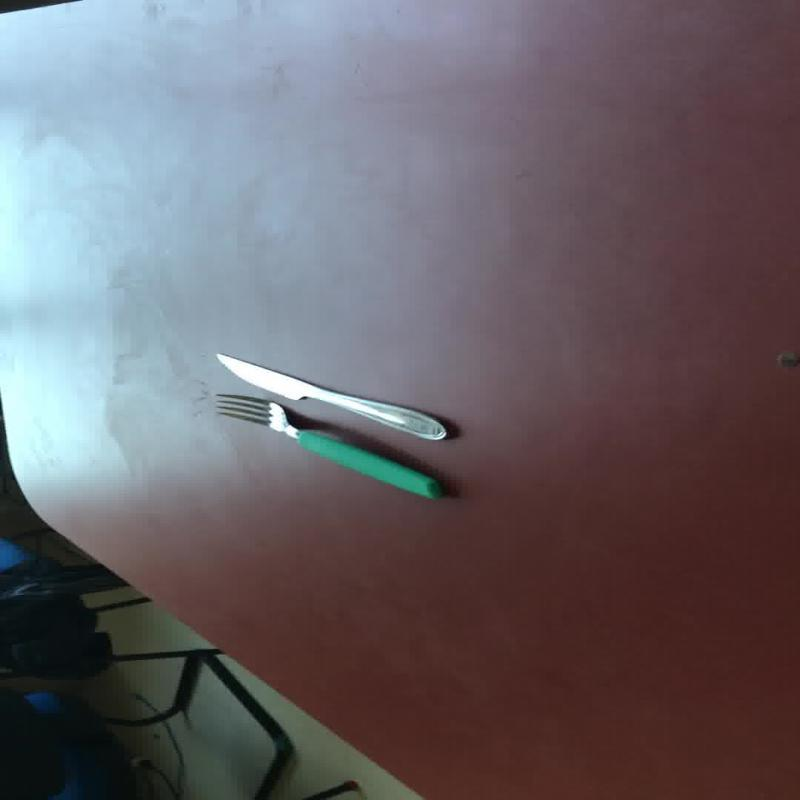fork: (212, 392, 443, 500)
knife: (213, 352, 448, 440)
